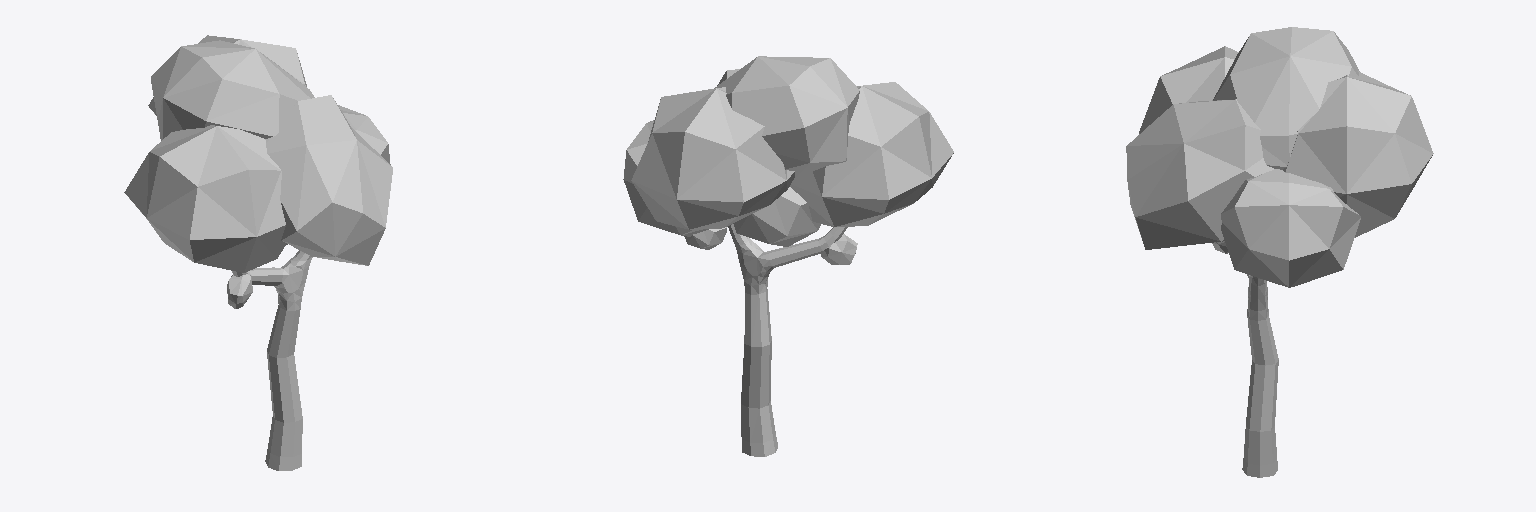
Rendered from TreeCartobj.obj.
The picture shows the model from 3 angles: view 1: azimuth 30°, elevation 25°; view 2: azimuth 150°, elevation 25°; view 3: azimuth 270°, elevation 25°; orthographic projection.
Visible parts, largest first — view 1: Cube.001, Cube.005, Cube.008, Vert, Cube.004, Cube, Cube.003; view 2: Cube.004, Cube.001, Cube.008, Vert, Cube.007, Cube, Cube.003, Cube.006; view 3: Cube.005, Cube.004, Cube, Cube.008, Vert, Cube.001.
Part boxes in pixels (x1,y1,x2,y2): Cube.001: (124, 125, 286, 272); Cube.005: (265, 95, 392, 265); Cube.008: (151, 40, 314, 140); Vert: (232, 250, 312, 470); Cube.004: (148, 35, 306, 115); Cube: (338, 105, 390, 164); Cube.003: (227, 274, 252, 308); Cube.004: (631, 87, 794, 229); Cube.001: (790, 82, 953, 226); Cube.008: (714, 56, 859, 177); Vert: (728, 224, 847, 456); Cube.007: (733, 187, 820, 246); Cube: (623, 120, 731, 236); Cube.003: (821, 234, 857, 264); Cube.006: (684, 227, 726, 249); Cube.005: (1126, 99, 1273, 249); Cube.004: (1283, 71, 1433, 237); Cube: (1221, 169, 1360, 287); Cube.008: (1213, 27, 1359, 169); Vert: (1242, 274, 1278, 477); Cube.001: (1139, 46, 1238, 133).
Bounding box in the file's own units: 5.81 × 8.34 × 5.65.